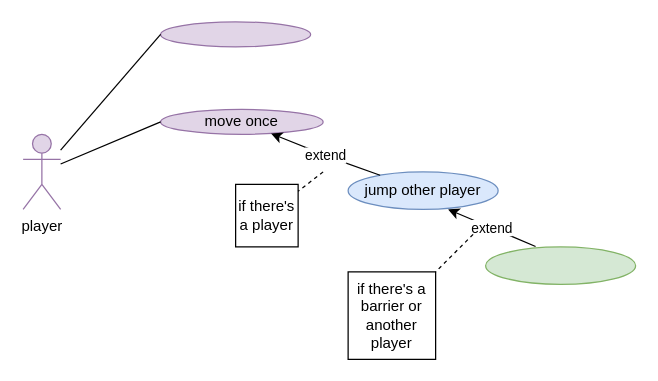
The diagram is 658 pixels wide and 381 high, and some of its shapes have lost their labels. Each missing label, with the centre of its shape:
"diagonal move" belongs at point (560, 265).
"place barrier" belongs at point (235, 34).
